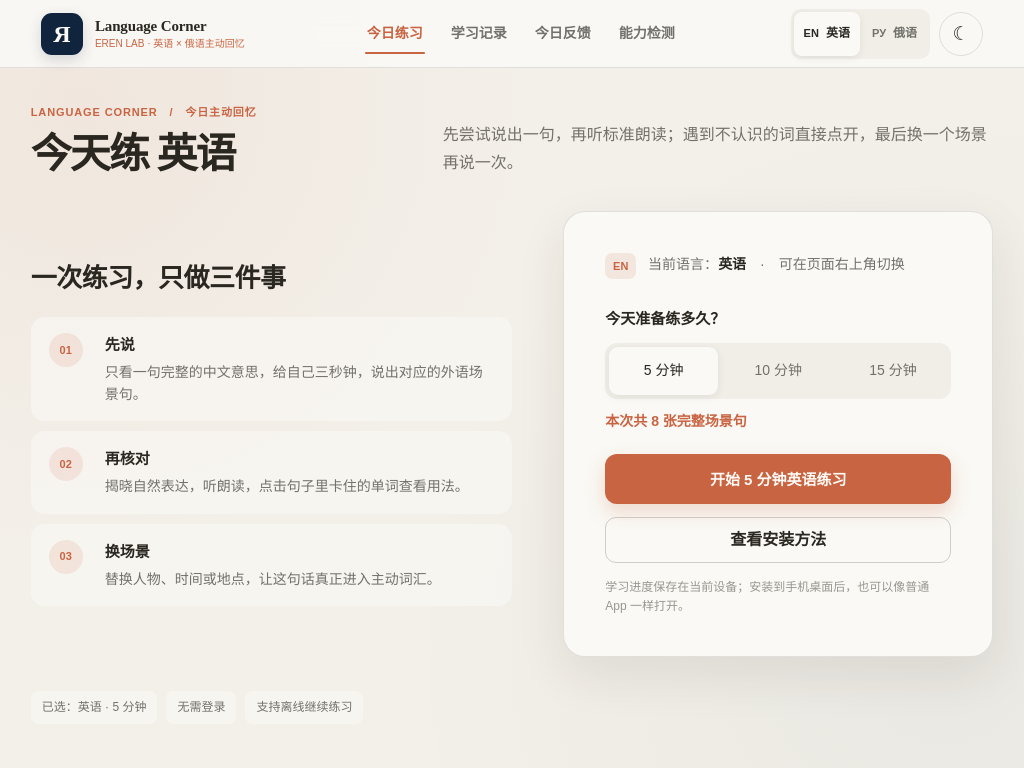
Scenario: Language Corner app › offers three practice environments without requesting privileged access
Click the button with aria-label "开始今天练习" at (778, 479), box 605,454 -> 951,504
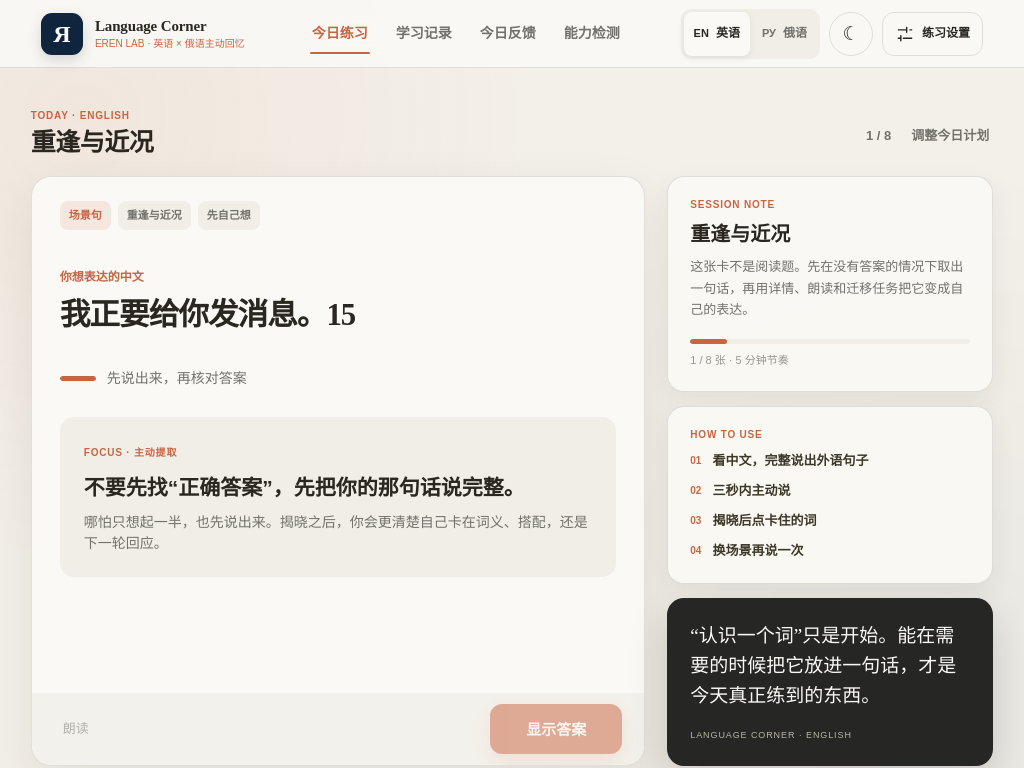
Click the button "练习设置" at (932, 34), box 882,12 -> 983,56
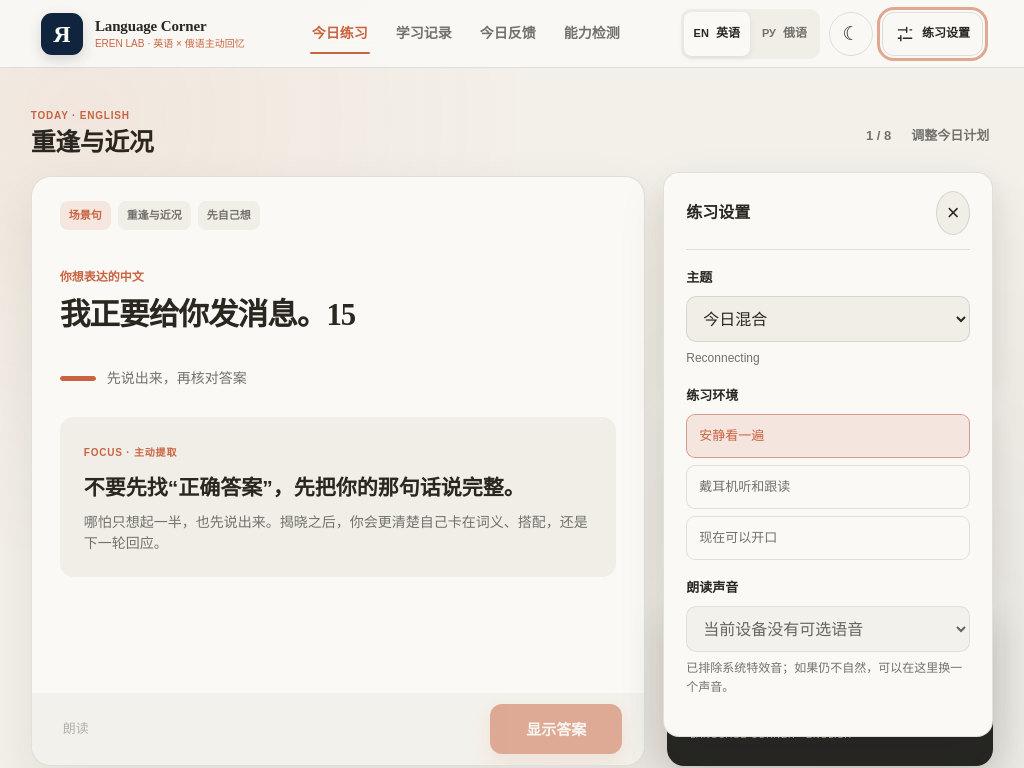
Check: the button "安静看一遍" is shown, box 686,414 -> 970,458
Check: the button "戴耳机听和跟读" is shown, box 686,465 -> 970,509
Check: the button "现在可以开口" is shown, box 686,516 -> 970,560
